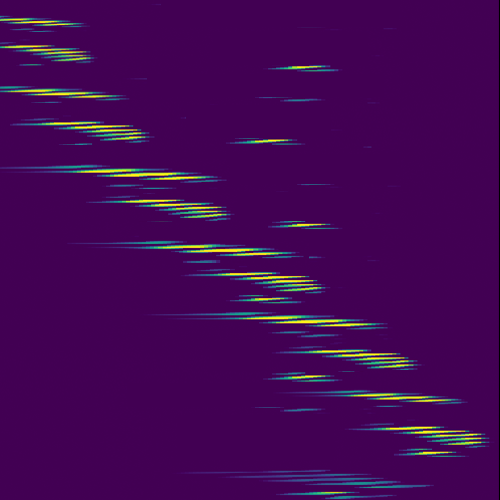semblance: (376, 423, 491, 457), (23, 116, 162, 143), (213, 269, 326, 302), (69, 160, 213, 183), (306, 345, 423, 371), (148, 241, 301, 260), (238, 310, 375, 331), (114, 196, 233, 220), (1, 41, 102, 66), (1, 85, 124, 101), (347, 390, 458, 406), (1, 12, 87, 30)
